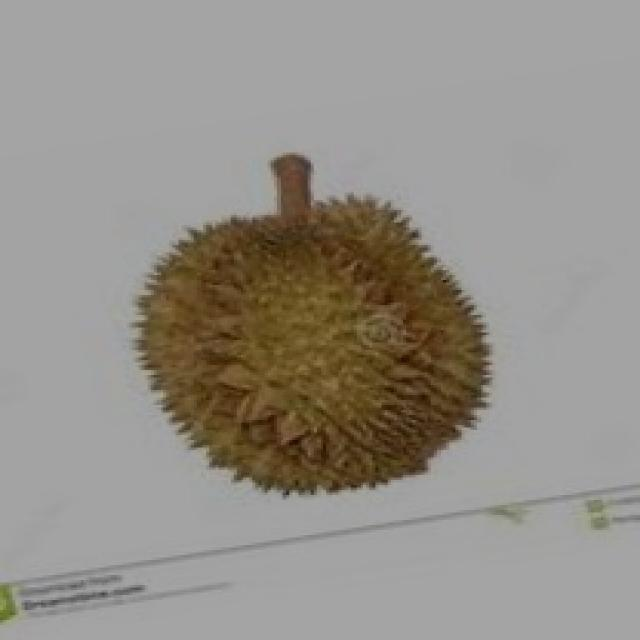fruit: (102, 167, 520, 535)
